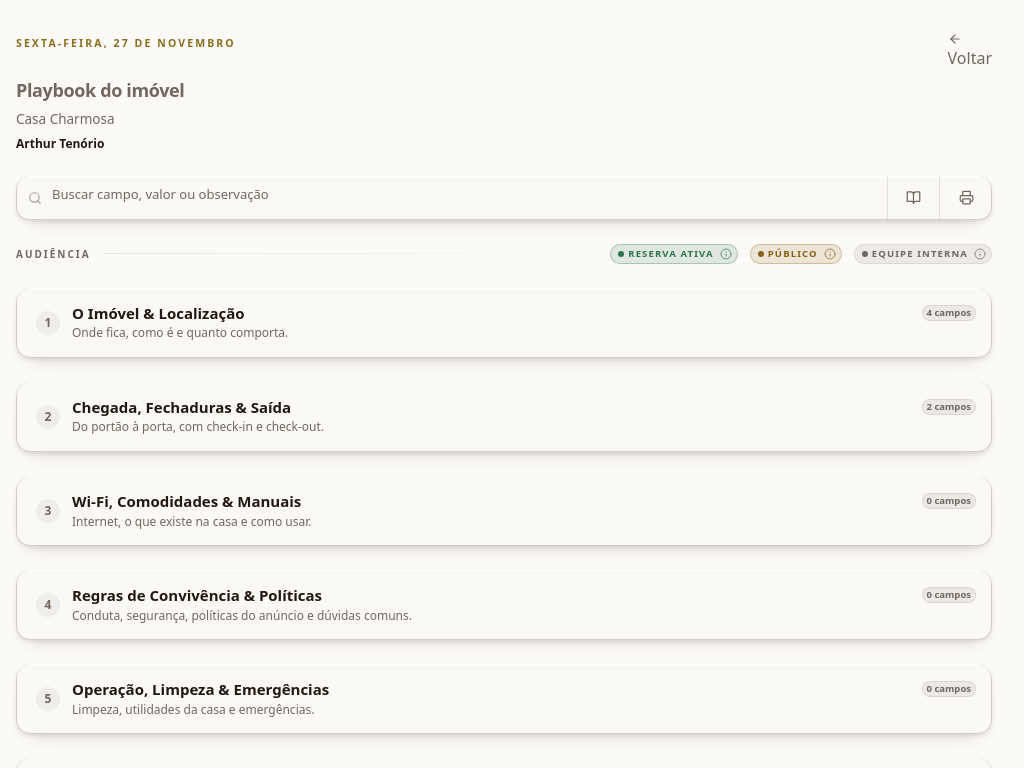
PlaybookPage › tem Voltar para a lista de proprietários e Modo leitura com entrada e saída explícitas
Expected: the text "Arthur Tenório" is shown, [16, 136, 104, 152]
Expected: the text "Sair do modo leitura" is not shown
What coordinates should you click on to do the following:
click the button named "Entrar no modo leitura"
I would click on:
 (914, 198)
Its box is [888, 176, 940, 220].
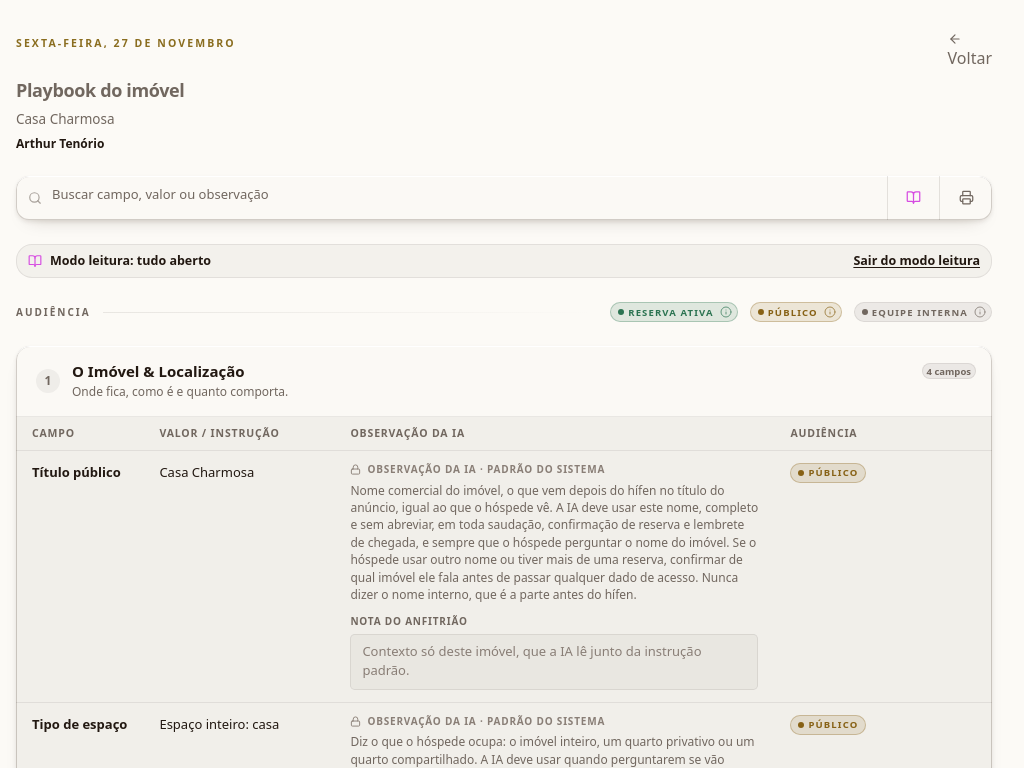
Expected: the button "Sair do modo leitura" is shown
What coordinates should you click on to do the following:
click the button "Sair do modo leitura"
I would click on:
 (917, 261)
Its box is [853, 252, 980, 270].
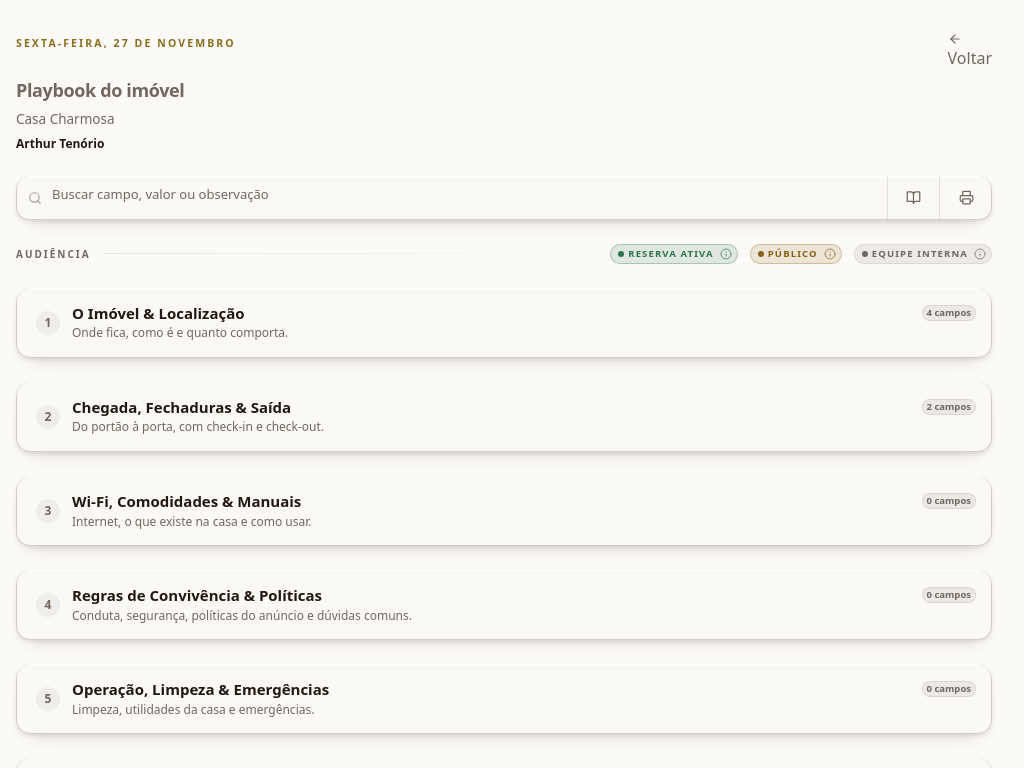
Expected: the text "Modo leitura: tudo aberto" is gone
